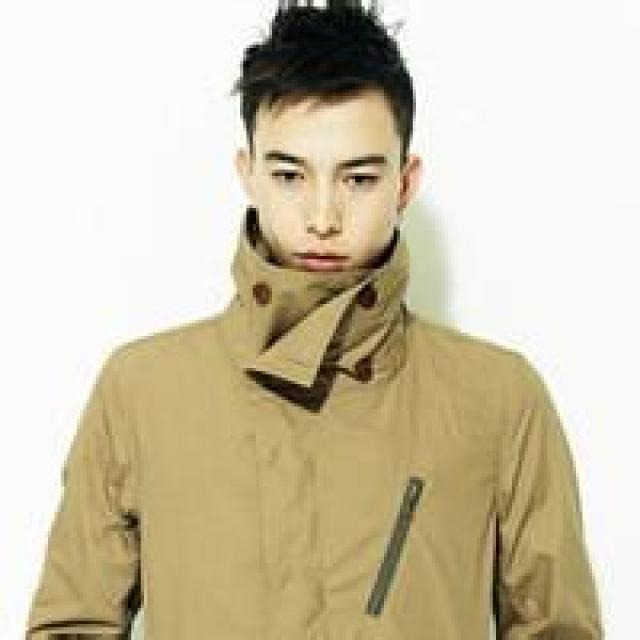nomask: (248, 85, 398, 286)
